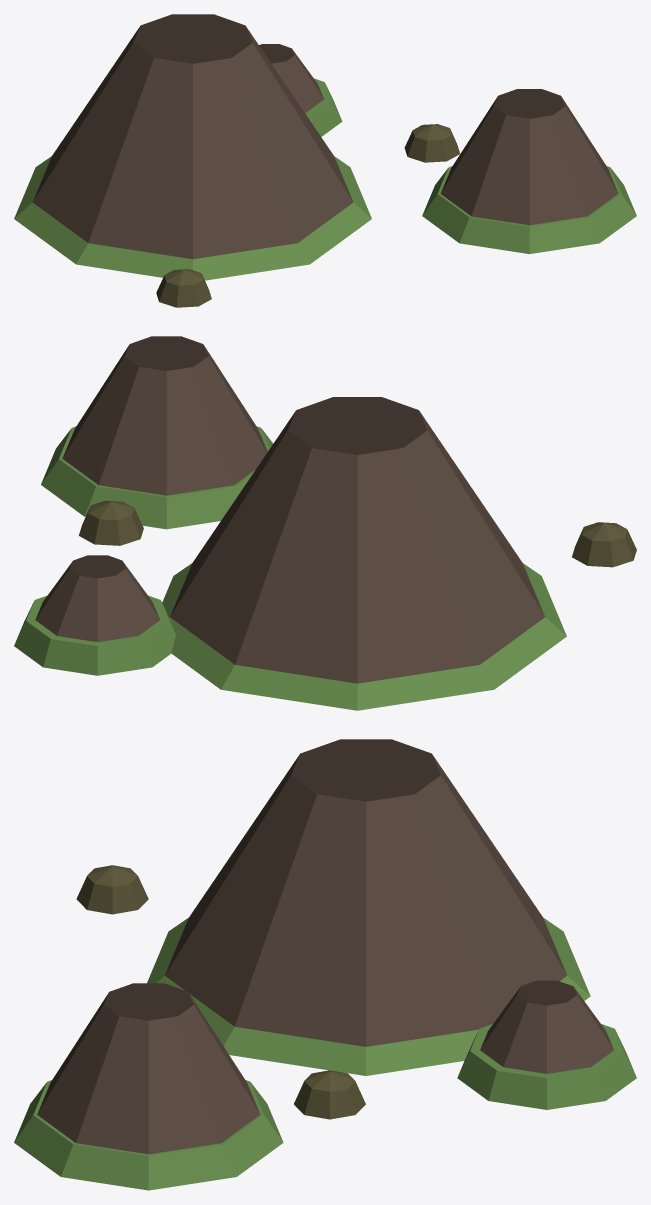
File: galapagos.glb
3 views of the same model, one above another, from view 1: azimuth 30°, elevation 25°; view 2: azimuth 150°, elevation 25°; view 3: azimuth 270°, elevation 25° (orthographic). The views are drawn at different scales.
Parts seen in each view (by area): view 1: galapagos; view 2: galapagos; view 3: galapagos.
Boxes of the visible parts, <box> form: galapagos: <box>14,14,636,307</box>; galapagos: <box>14,336,636,710</box>; galapagos: <box>14,739,636,1190</box>.
Size of the model in its own units: 0.985 by 0.32 by 0.8602.
